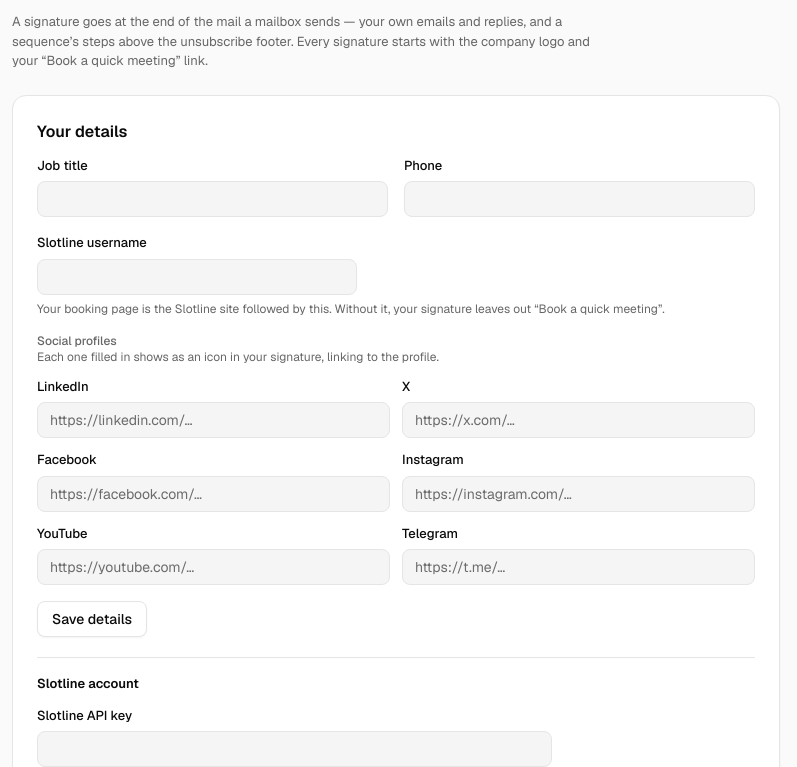
#193 Settings → Signatures › a member sets their title, phone and Slotline username, and sees the booking link it makes
This screenshot has width=797, height=767.
Step 1. Type "Account manager" into the field labelled "Job title" → (212, 199), box [37, 181, 388, 217]
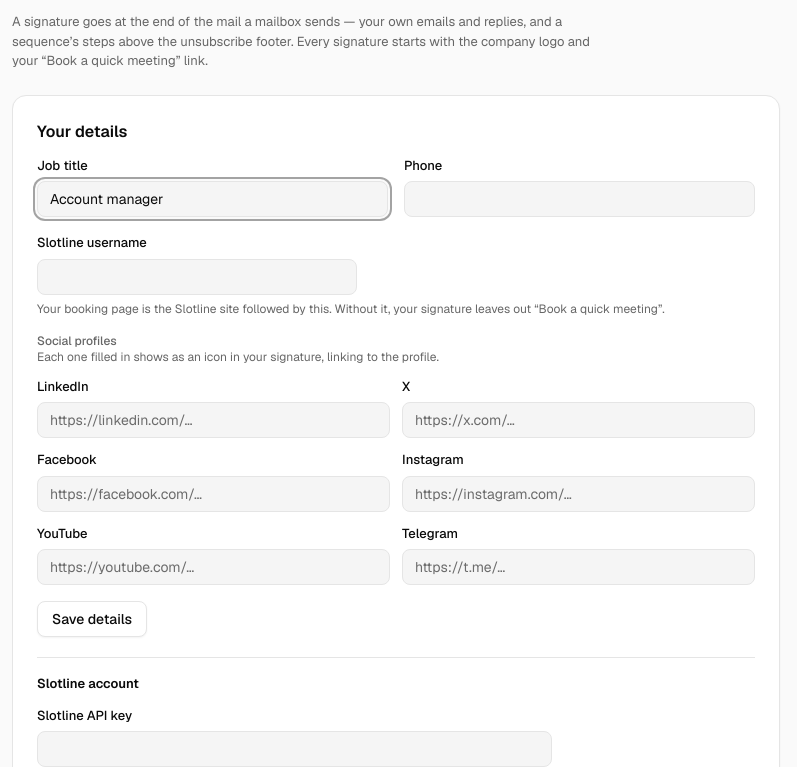
Step 2. Type "+92 300 1234567" into the field labelled "Phone" → (580, 199), box [404, 181, 755, 217]
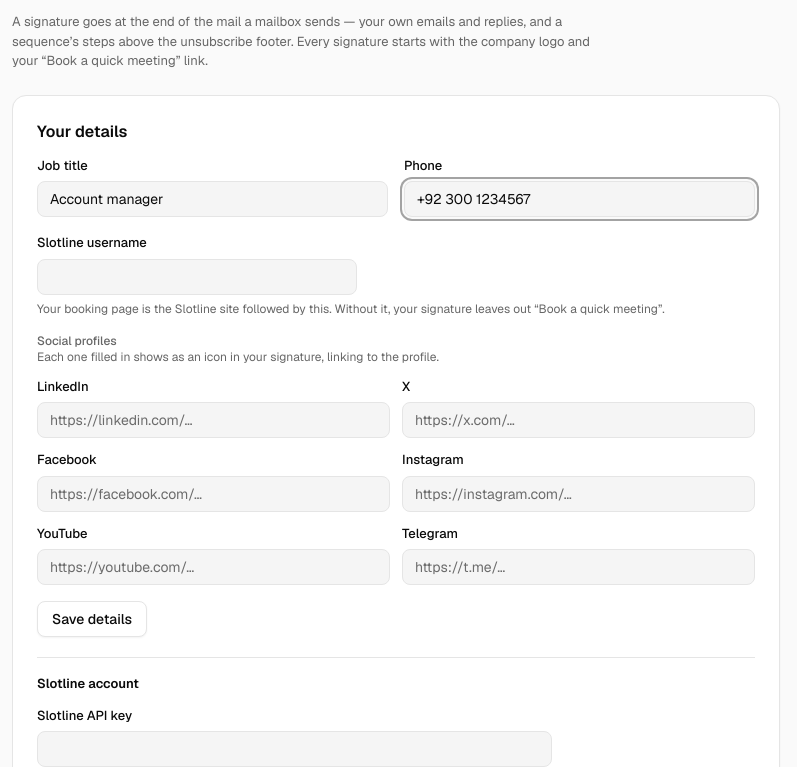
Step 3. Type "kate" into the field labelled "Slotline username" → (197, 276), box [37, 258, 357, 294]
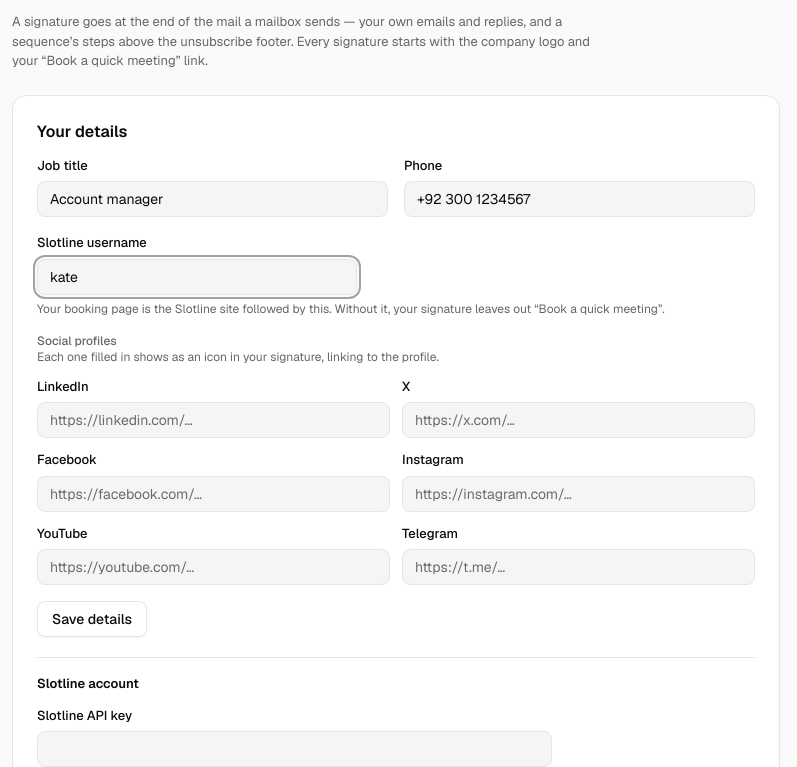
Step 4. Click the button "Save details" → (92, 619), box [37, 601, 147, 637]
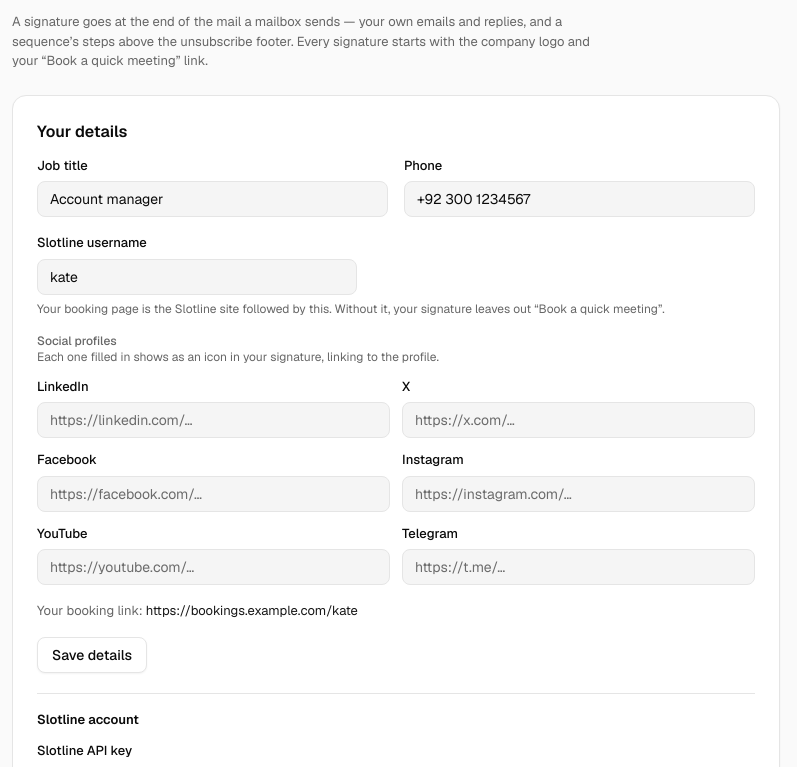
Result: the link "https://bookings.example.com/kate" is shown at [146, 602, 358, 619]
